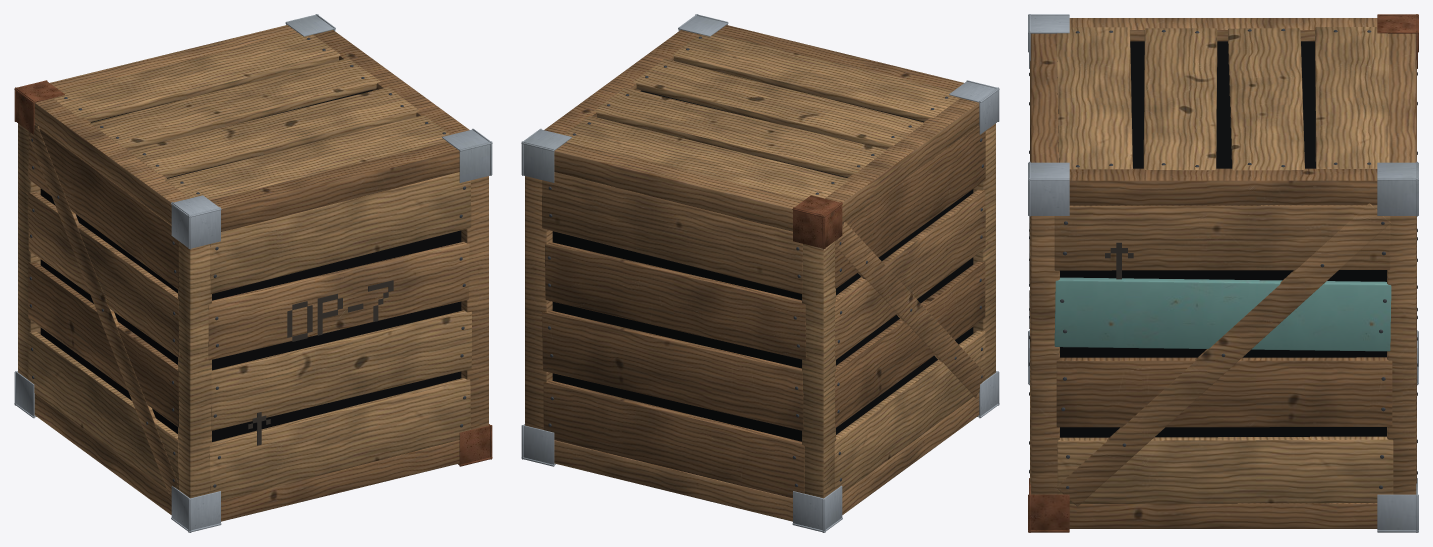
Rendered from wooden_crate.glb.
3 views of the same model, side by side, from view 1: azimuth 30°, elevation 25°; view 2: azimuth 150°, elevation 25°; view 3: azimuth 270°, elevation 25° (orthographic). The views are drawn at different scales.
Parts seen in each view (by area): view 1: WoodenCrateBody; view 2: WoodenCrateBody; view 3: WoodenCrateBody.
Part boxes in pixels (x1,y1,x2,y2): WoodenCrateBody: [14, 14, 492, 532]; WoodenCrateBody: [521, 14, 999, 532]; WoodenCrateBody: [1028, 14, 1418, 532].
Bounding box in the file's own units: 0.75 × 0.75 × 0.75.
9 materials, 7 textured.
